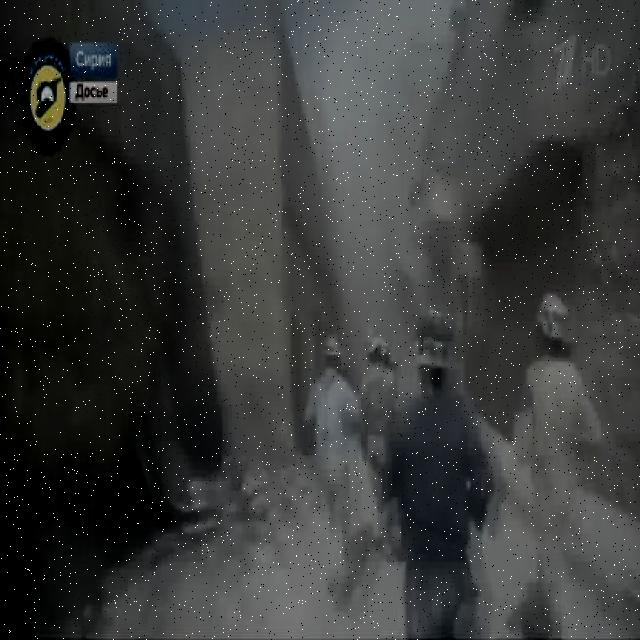Helmet: (413, 308, 453, 370), (534, 297, 574, 346), (322, 333, 342, 358)
